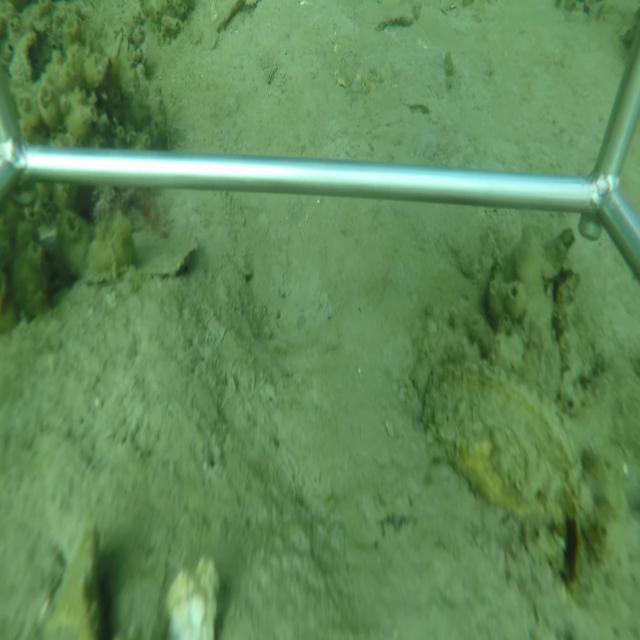Oyster-Indeterminate: (425, 359, 590, 526)
